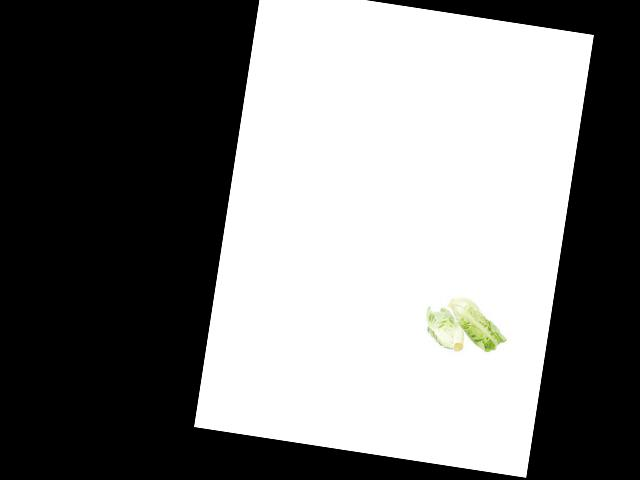lettuce: (454, 258, 573, 374)
